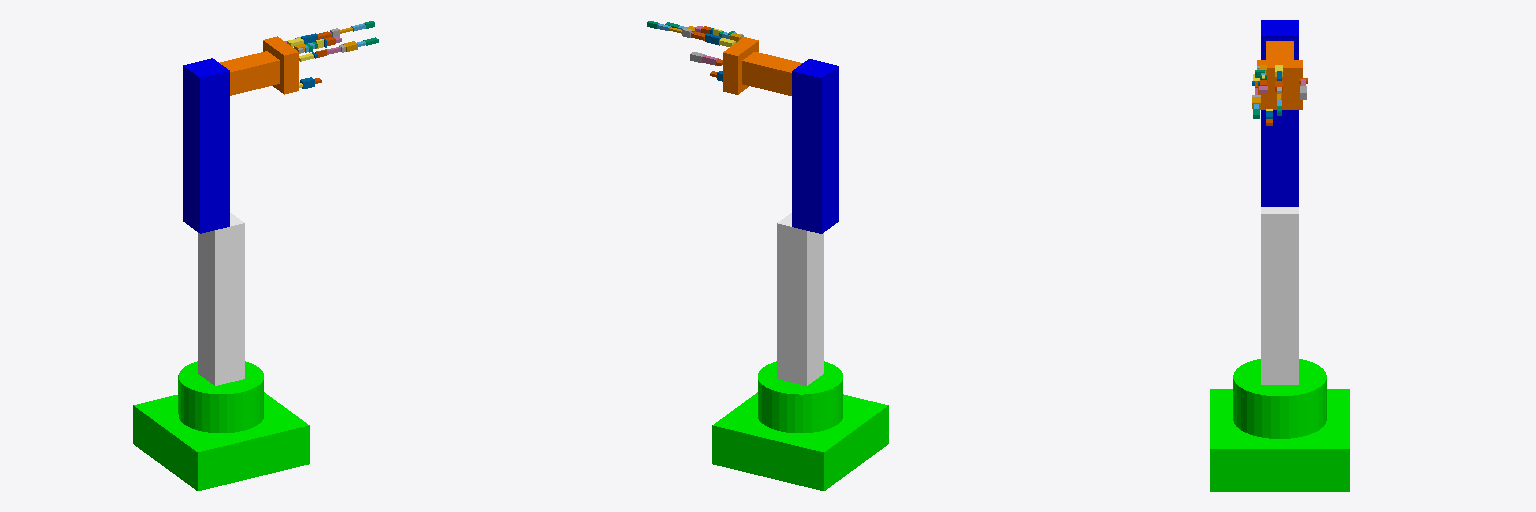
--- What the picture shows (computed from the rendered views, not written in the file) ---
Views: 3 orthographic renders of the robot side by side, from view 1: azimuth 30°, elevation 25°; view 2: azimuth 150°, elevation 25°; view 3: azimuth 270°, elevation 25°.
Robot: robot — 38 links, 37 joints (34 revolute, 1 continuous, 2 fixed); root link base_link; default pose: every joint at zero.
Visible links, largest first — view 1: base_link, arm_link, support_link, wrist_link, palm_link; view 2: base_link, arm_link, support_link, wrist_link, palm_link; view 3: base_link, support_link, arm_link, palm_link, wrist_link.
Link boxes in pixels (<box>): base_link: <box>133,361,309,490</box>; arm_link: <box>183,58,229,233</box>; support_link: <box>198,213,244,385</box>; wrist_link: <box>220,51,279,95</box>; palm_link: <box>263,36,298,94</box>; base_link: <box>712,361,888,490</box>; arm_link: <box>792,59,838,233</box>; support_link: <box>777,213,823,385</box>; wrist_link: <box>742,52,801,95</box>; palm_link: <box>723,37,758,94</box>; base_link: <box>1210,359,1349,491</box>; support_link: <box>1261,207,1298,384</box>; arm_link: <box>1261,20,1298,206</box>; palm_link: <box>1257,60,1302,109</box>; wrist_link: <box>1266,41,1293,59</box>.
Bounding box of the posed robot: 1.4 × 0.75 × 2.55 m (x, y, z).
Geometry: primitives only (box / cylinder / sphere), no mesh files.

The robot description file, URDF, robot "robot":
<?xml version='1.0' encoding='utf-8'?>
<robot name="robot">
  <link name="base_link">
    <visual>
      <origin xyz="0 0 0.125" rpy="0 0 0" />
      <geometry>
        <box size="0.75 0.75 0.25" />
      </geometry>
      <material name="green" />
    </visual>
    <visual>
      <origin xyz="0 0 0.375" rpy="0 0 0" />
      <geometry>
        <cylinder length="0.25" radius="0.25" />
      </geometry>
      <material name="green">
        <color rgba="0 1 0 1" />
      </material>
    </visual>
    <collision>
      <geometry>
        <box size="0.75 0.75 0.5" />
      </geometry>
    </collision>
    <inertial>
      <mass value="0.5" />
      <inertia ixx="0.034" ixy="0.0" ixz="0.0" iyy="0.034" iyz="0.0" izz="0.034" />
    </inertial>
  </link>
  <link name="support_link">
    <visual>
      <origin xyz="0 0 0.5" rpy="0 0 0" />
      <geometry>
        <box size="0.2 0.2 1" />
      </geometry>
      <material name="white">
        <color rgba="1 1 1 1" />
      </material>
    </visual>
    <collision>
      <geometry>
        <box size="0.2 0.2 1" />
      </geometry>
    </collision>
    <inertial>
      <mass value="0.1" />
      <inertia ixx="0.01" ixy="0.0" ixz="0.0" iyy="0.01" iyz="0.0" izz="0.01" />
    </inertial>
  </link>
  <joint name="support_joint" type="continuous">
    <origin xyz="0 0 0.5" rpy="0 0 0" />
    <parent link="base_link" />
    <child link="support_link" />
    <axis xyz="0 0 1" />
  </joint>
  <link name="arm_link">
    <visual>
      <origin xyz="0 0 0.5" rpy="0 0 0" />
      <geometry>
        <box size="0.2 0.2 1" />
      </geometry>
      <material name="blue">
        <color rgba="0 0 1 1" />
      </material>
    </visual>
    <collision>
      <geometry>
        <box size="0.2 0.2 1" />
      </geometry>
    </collision>
    <inertial>
      <mass value="0.1" />
      <inertia ixx="0.01" ixy="0.0" ixz="0.0" iyy="0.01" iyz="0.0" izz="0.01" />
    </inertial>
  </link>
  <joint name="arm_joint" type="revolute">
    <origin xyz="-0.1 0 1" rpy="0 0 0" />
    <parent link="support_link" />
    <child link="arm_link" />
    <axis xyz="0 1 0" />
    <limit lower="-3.14" upper="3.14" effort="1.0" velocity="1.0" />
  </joint>
  <link name="wrist_link">
    <visual>
      <origin xyz="0 0 0.25" rpy="0 0 0" />
      <geometry>
        <box size="0.15 0.15 0.5" />
      </geometry>
      <material name="orange">
        <color rgba="1 0.5 0 1" />
      </material>
    </visual>
    <collision>
      <geometry>
        <box size="0.15 0.15 0.5" />
      </geometry>
    </collision>
    <inertial>
      <mass value="0.1" />
      <inertia ixx="0.01" ixy="0.0" ixz="0.0" iyy="0.01" iyz="0.0" izz="0.01" />
    </inertial>
  </link>
  <joint name="wrist_joint" type="fixed">
    <origin xyz="0 0 0.9" rpy="0 1.571 0" />
    <parent link="arm_link" />
    <child link="wrist_link" />
  </joint>
  <link name="palm_link">
    <visual>
      <origin xyz="0 0 0.05" rpy="0 0 0" />
      <geometry>
        <box size="0.25 0.25 0.1" />
      </geometry>
      <material name="orange" />
    </visual>
    <collision>
      <geometry>
        <box size="0.25 0.25 0.1" />
      </geometry>
    </collision>
    <inertial>
      <mass value="0.1" />
      <inertia ixx="0.01" ixy="0.0" ixz="0.0" iyy="0.01" iyz="0.0" izz="0.01" />
    </inertial>
  </link>
  <joint name="palm_joint" type="fixed">
    <origin xyz="0 0 0.45" rpy="0 0 0" />
    <parent link="wrist_link" />
    <child link="palm_link" />
  </joint>
  <link name="finger_link_0_0">
    <visual>
      <origin xyz="0 0 0.018" rpy="0 0 0" />
      <geometry>
        <box size="0.02 0.045 0.036" />
      </geometry>
    </visual>
    <collision>
      <geometry>
        <box size="0.02 0.045 0.036" />
      </geometry>
    </collision>
    <inertial>
      <mass value="0.01" />
      <inertia ixx="0.0" iyy="0.0" izz="0.0" ixy="0" ixz="0" iyz="0" />
    </inertial>
  </link>
  <joint name="finger_joint_palm_link_to_finger_link_0_0" type="revolute">
    <origin xyz="-0.055 0.125 0.1" rpy="0 0 0" />
    <parent link="palm_link" />
    <child link="finger_link_0_0" />
    <axis xyz="-1.0 0.0 0.0" />
    <limit lower="-3.142" upper="3.142" effort="10" velocity="10" />
  </joint>
  <link name="finger_link_0_1">
    <visual>
      <origin xyz="0 0 0.047" rpy="0 0 0" />
      <geometry>
        <box size="0.038 0.026 0.094" />
      </geometry>
    </visual>
    <collision>
      <geometry>
        <box size="0.038 0.026 0.094" />
      </geometry>
    </collision>
    <inertial>
      <mass value="0.028" />
      <inertia ixx="0.0" iyy="0.0" izz="0.0" ixy="0" ixz="0" iyz="0" />
    </inertial>
  </link>
  <joint name="finger_joint_finger_link_0_0_to_finger_link_0_1" type="revolute">
    <origin xyz="0.0 0.0 0.036" rpy="0 0 0" />
    <parent link="finger_link_0_0" />
    <child link="finger_link_0_1" />
    <axis xyz="1.0 0.0 0.0" />
    <limit lower="-3.142" upper="3.142" effort="10" velocity="10" />
  </joint>
  <link name="finger_link_0_2">
    <visual>
      <origin xyz="0 0 0.038" rpy="0 0 0" />
      <geometry>
        <box size="0.042 0.041 0.076" />
      </geometry>
    </visual>
    <collision>
      <geometry>
        <box size="0.042 0.041 0.076" />
      </geometry>
    </collision>
    <inertial>
      <mass value="0.039" />
      <inertia ixx="0.0" iyy="0.0" izz="0.0" ixy="0" ixz="0" iyz="0" />
    </inertial>
  </link>
  <joint name="finger_joint_finger_link_0_1_to_finger_link_0_2" type="revolute">
    <origin xyz="0.0 0.0 0.094" rpy="0 0 0" />
    <parent link="finger_link_0_1" />
    <child link="finger_link_0_2" />
    <axis xyz="0.0 1.0 0.0" />
    <limit lower="-3.142" upper="3.142" effort="10" velocity="10" />
  </joint>
  <link name="finger_link_1_0">
    <visual>
      <origin xyz="0 0 0.032" rpy="0 0 0" />
      <geometry>
        <box size="0.035 0.038 0.064" />
      </geometry>
    </visual>
    <collision>
      <geometry>
        <box size="0.035 0.038 0.064" />
      </geometry>
    </collision>
    <inertial>
      <mass value="0.026" />
      <inertia ixx="0.0" iyy="0.0" izz="0.0" ixy="0" ixz="0" iyz="0" />
    </inertial>
  </link>
  <joint name="finger_joint_palm_link_to_finger_link_1_0" type="revolute">
    <origin xyz="-0.125 -0.088 0.1" rpy="0 0 0" />
    <parent link="palm_link" />
    <child link="finger_link_1_0" />
    <axis xyz="0.0 -1.0 0.0" />
    <limit lower="-3.142" upper="3.142" effort="10" velocity="10" />
  </joint>
  <link name="finger_link_1_1">
    <visual>
      <origin xyz="0 0 0.0265" rpy="0 0 0" />
      <geometry>
        <box size="0.025 0.031 0.053" />
      </geometry>
    </visual>
    <collision>
      <geometry>
        <box size="0.025 0.031 0.053" />
      </geometry>
    </collision>
    <inertial>
      <mass value="0.012" />
      <inertia ixx="0.0" iyy="0.0" izz="0.0" ixy="0" ixz="0" iyz="0" />
    </inertial>
  </link>
  <joint name="finger_joint_finger_link_1_0_to_finger_link_1_1" type="revolute">
    <origin xyz="0.0 0.0 0.064" rpy="0 0 0" />
    <parent link="finger_link_1_0" />
    <child link="finger_link_1_1" />
    <axis xyz="1.0 0.0 0.0" />
    <limit lower="-3.142" upper="3.142" effort="10" velocity="10" />
  </joint>
  <link name="finger_link_1_2">
    <visual>
      <origin xyz="0 0 0.0095" rpy="0 0 0" />
      <geometry>
        <box size="0.026 0.035 0.019" />
      </geometry>
    </visual>
    <collision>
      <geometry>
        <box size="0.026 0.035 0.019" />
      </geometry>
    </collision>
    <inertial>
      <mass value="0.005" />
      <inertia ixx="0.0" iyy="0.0" izz="0.0" ixy="0" ixz="0" iyz="0" />
    </inertial>
  </link>
  <joint name="finger_joint_finger_link_1_1_to_finger_link_1_2" type="revolute">
    <origin xyz="0.0 0.0 0.053" rpy="0 0 0" />
    <parent link="finger_link_1_1" />
    <child link="finger_link_1_2" />
    <axis xyz="0.0 1.0 0.0" />
    <limit lower="-3.142" upper="3.142" effort="10" velocity="10" />
  </joint>
  <link name="finger_link_1_3">
    <visual>
      <origin xyz="0 0 0.024" rpy="0 0 0" />
      <geometry>
        <box size="0.047 0.016 0.048" />
      </geometry>
    </visual>
    <collision>
      <geometry>
        <box size="0.047 0.016 0.048" />
      </geometry>
    </collision>
    <inertial>
      <mass value="0.011" />
      <inertia ixx="0.0" iyy="0.0" izz="0.0" ixy="0" ixz="0" iyz="0" />
    </inertial>
  </link>
  <joint name="finger_joint_finger_link_1_2_to_finger_link_1_3" type="revolute">
    <origin xyz="0.0 0.0 0.019" rpy="0 0 0" />
    <parent link="finger_link_1_2" />
    <child link="finger_link_1_3" />
    <axis xyz="0.0 1.0 0.0" />
    <limit lower="-3.142" upper="3.142" effort="10" velocity="10" />
  </joint>
  <link name="finger_link_1_4">
    <visual>
      <origin xyz="0 0 0.0055" rpy="0 0 0" />
      <geometry>
        <box size="0.045 0.04 0.011" />
      </geometry>
    </visual>
    <collision>
      <geometry>
        <box size="0.045 0.04 0.011" />
      </geometry>
    </collision>
    <inertial>
      <mass value="0.006" />
      <inertia ixx="0.0" iyy="0.0" izz="0.0" ixy="0" ixz="0" iyz="0" />
    </inertial>
  </link>
  <joint name="finger_joint_finger_link_1_3_to_finger_link_1_4" type="revolute">
    <origin xyz="0.0 0.0 0.048" rpy="0 0 0" />
    <parent link="finger_link_1_3" />
    <child link="finger_link_1_4" />
    <axis xyz="1.0 0.0 0.0" />
    <limit lower="-3.142" upper="3.142" effort="10" velocity="10" />
  </joint>
  <link name="finger_link_1_5">
    <visual>
      <origin xyz="0 0 0.0305" rpy="0 0 0" />
      <geometry>
        <box size="0.034 0.039 0.061" />
      </geometry>
    </visual>
    <collision>
      <geometry>
        <box size="0.034 0.039 0.061" />
      </geometry>
    </collision>
    <inertial>
      <mass value="0.024" />
      <inertia ixx="0.0" iyy="0.0" izz="0.0" ixy="0" ixz="0" iyz="0" />
    </inertial>
  </link>
  <joint name="finger_joint_finger_link_1_4_to_finger_link_1_5" type="revolute">
    <origin xyz="0.0 0.0 0.011" rpy="0 0 0" />
    <parent link="finger_link_1_4" />
    <child link="finger_link_1_5" />
    <axis xyz="1.0 0.0 0.0" />
    <limit lower="-3.142" upper="3.142" effort="10" velocity="10" />
  </joint>
  <link name="finger_link_1_6">
    <visual>
      <origin xyz="0 0 0.0205" rpy="0 0 0" />
      <geometry>
        <box size="0.02 0.043 0.041" />
      </geometry>
    </visual>
    <collision>
      <geometry>
        <box size="0.02 0.043 0.041" />
      </geometry>
    </collision>
    <inertial>
      <mass value="0.011" />
      <inertia ixx="0.0" iyy="0.0" izz="0.0" ixy="0" ixz="0" iyz="0" />
    </inertial>
  </link>
  <joint name="finger_joint_finger_link_1_5_to_finger_link_1_6" type="revolute">
    <origin xyz="0.0 0.0 0.061" rpy="0 0 0" />
    <parent link="finger_link_1_5" />
    <child link="finger_link_1_6" />
    <axis xyz="1.0 0.0 0.0" />
    <limit lower="-3.142" upper="3.142" effort="10" velocity="10" />
  </joint>
  <link name="finger_link_2_0">
    <visual>
      <origin xyz="0 0 0.015" rpy="0 0 0" />
      <geometry>
        <box size="0.026 0.036 0.03" />
      </geometry>
    </visual>
    <collision>
      <geometry>
        <box size="0.026 0.036 0.03" />
      </geometry>
    </collision>
    <inertial>
      <mass value="0.008" />
      <inertia ixx="0.0" iyy="0.0" izz="0.0" ixy="0" ixz="0" iyz="0" />
    </inertial>
  </link>
  <joint name="finger_joint_palm_link_to_finger_link_2_0" type="revolute">
    <origin xyz="-0.125 -0.106 0.1" rpy="0 0 0" />
    <parent link="palm_link" />
    <child link="finger_link_2_0" />
    <axis xyz="0.0 -1.0 0.0" />
    <limit lower="-3.142" upper="3.142" effort="10" velocity="10" />
  </joint>
  <link name="finger_link_2_1">
    <visual>
      <origin xyz="0 0 0.008" rpy="0 0 0" />
      <geometry>
        <box size="0.013 0.024 0.016" />
      </geometry>
    </visual>
    <collision>
      <geometry>
        <box size="0.013 0.024 0.016" />
      </geometry>
    </collision>
    <inertial>
      <mass value="0.001" />
      <inertia ixx="0.0" iyy="0.0" izz="0.0" ixy="0" ixz="0" iyz="0" />
    </inertial>
  </link>
  <joint name="finger_joint_finger_link_2_0_to_finger_link_2_1" type="revolute">
    <origin xyz="0.0 0.0 0.03" rpy="0 0 0" />
    <parent link="finger_link_2_0" />
    <child link="finger_link_2_1" />
    <axis xyz="0.0 1.0 0.0" />
    <limit lower="-3.142" upper="3.142" effort="10" velocity="10" />
  </joint>
  <link name="finger_link_2_2">
    <visual>
      <origin xyz="0 0 0.0095" rpy="0 0 0" />
      <geometry>
        <box size="0.032 0.035 0.019" />
      </geometry>
    </visual>
    <collision>
      <geometry>
        <box size="0.032 0.035 0.019" />
      </geometry>
    </collision>
    <inertial>
      <mass value="0.006" />
      <inertia ixx="0.0" iyy="0.0" izz="0.0" ixy="0" ixz="0" iyz="0" />
    </inertial>
  </link>
  <joint name="finger_joint_finger_link_2_1_to_finger_link_2_2" type="revolute">
    <origin xyz="0.0 0.0 0.016" rpy="0 0 0" />
    <parent link="finger_link_2_1" />
    <child link="finger_link_2_2" />
    <axis xyz="0.0 1.0 0.0" />
    <limit lower="-3.142" upper="3.142" effort="10" velocity="10" />
  </joint>
  <link name="finger_link_2_3">
    <visual>
      <origin xyz="0 0 0.012" rpy="0 0 0" />
      <geometry>
        <box size="0.032 0.05 0.024" />
      </geometry>
    </visual>
    <collision>
      <geometry>
        <box size="0.032 0.05 0.024" />
      </geometry>
    </collision>
    <inertial>
      <mass value="0.012" />
      <inertia ixx="0.0" iyy="0.0" izz="0.0" ixy="0" ixz="0" iyz="0" />
    </inertial>
  </link>
  <joint name="finger_joint_finger_link_2_2_to_finger_link_2_3" type="revolute">
    <origin xyz="0.0 0.0 0.019" rpy="0 0 0" />
    <parent link="finger_link_2_2" />
    <child link="finger_link_2_3" />
    <axis xyz="1.0 0.0 0.0" />
    <limit lower="-3.142" upper="3.142" effort="10" velocity="10" />
  </joint>
  <link name="finger_link_3_0">
    <visual>
      <origin xyz="0 0 0.0445" rpy="0 0 0" />
      <geometry>
        <box size="0.029 0.043 0.089" />
      </geometry>
    </visual>
    <collision>
      <geometry>
        <box size="0.029 0.043 0.089" />
      </geometry>
    </collision>
    <inertial>
      <mass value="0.033" />
      <inertia ixx="0.0" iyy="0.0" izz="0.0" ixy="0" ixz="0" iyz="0" />
    </inertial>
  </link>
  <joint name="finger_joint_palm_link_to_finger_link_3_0" type="revolute">
    <origin xyz="-0.125 -0.004 0.1" rpy="0 0 0" />
    <parent link="palm_link" />
    <child link="finger_link_3_0" />
    <axis xyz="0.0 -1.0 0.0" />
    <limit lower="-3.142" upper="3.142" effort="10" velocity="10" />
  </joint>
  <link name="finger_link_3_1">
    <visual>
      <origin xyz="0 0 0.049" rpy="0 0 0" />
      <geometry>
        <box size="0.045 0.028 0.098" />
      </geometry>
    </visual>
    <collision>
      <geometry>
        <box size="0.045 0.028 0.098" />
      </geometry>
    </collision>
    <inertial>
      <mass value="0.037" />
      <inertia ixx="0.0" iyy="0.0" izz="0.0" ixy="0" ixz="0" iyz="0" />
    </inertial>
  </link>
  <joint name="finger_joint_finger_link_3_0_to_finger_link_3_1" type="revolute">
    <origin xyz="0.0 0.0 0.089" rpy="0 0 0" />
    <parent link="finger_link_3_0" />
    <child link="finger_link_3_1" />
    <axis xyz="1.0 0.0 0.0" />
    <limit lower="-3.142" upper="3.142" effort="10" velocity="10" />
  </joint>
  <link name="finger_link_3_2">
    <visual>
      <origin xyz="0 0 0.0435" rpy="0 0 0" />
      <geometry>
        <box size="0.025 0.04 0.087" />
      </geometry>
    </visual>
    <collision>
      <geometry>
        <box size="0.025 0.04 0.087" />
      </geometry>
    </collision>
    <inertial>
      <mass value="0.026" />
      <inertia ixx="0.0" iyy="0.0" izz="0.0" ixy="0" ixz="0" iyz="0" />
    </inertial>
  </link>
  <joint name="finger_joint_finger_link_3_1_to_finger_link_3_2" type="revolute">
    <origin xyz="0.0 0.0 0.098" rpy="0 0 0" />
    <parent link="finger_link_3_1" />
    <child link="finger_link_3_2" />
    <axis xyz="0.0 1.0 0.0" />
    <limit lower="-3.142" upper="3.142" effort="10" velocity="10" />
  </joint>
  <link name="finger_link_3_3">
    <visual>
      <origin xyz="0 0 0.0065" rpy="0 0 0" />
      <geometry>
        <box size="0.017 0.014 0.013" />
      </geometry>
    </visual>
    <collision>
      <geometry>
        <box size="0.017 0.014 0.013" />
      </geometry>
    </collision>
    <inertial>
      <mass value="0.001" />
      <inertia ixx="0.0" iyy="0.0" izz="0.0" ixy="0" ixz="0" iyz="0" />
    </inertial>
  </link>
  <joint name="finger_joint_finger_link_3_2_to_finger_link_3_3" type="revolute">
    <origin xyz="0.0 0.0 0.087" rpy="0 0 0" />
    <parent link="finger_link_3_2" />
    <child link="finger_link_3_3" />
    <axis xyz="1.0 0.0 0.0" />
    <limit lower="-3.142" upper="3.142" effort="10" velocity="10" />
  </joint>
  <link name="finger_link_3_4">
    <visual>
      <origin xyz="0 0 0.0255" rpy="0 0 0" />
      <geometry>
        <box size="0.041 0.029 0.051" />
      </geometry>
    </visual>
    <collision>
      <geometry>
        <box size="0.041 0.029 0.051" />
      </geometry>
    </collision>
    <inertial>
      <mass value="0.018" />
      <inertia ixx="0.0" iyy="0.0" izz="0.0" ixy="0" ixz="0" iyz="0" />
    </inertial>
  </link>
  <joint name="finger_joint_finger_link_3_3_to_finger_link_3_4" type="revolute">
    <origin xyz="0.0 0.0 0.013" rpy="0 0 0" />
    <parent link="finger_link_3_3" />
    <child link="finger_link_3_4" />
    <axis xyz="1.0 0.0 0.0" />
    <limit lower="-3.142" upper="3.142" effort="10" velocity="10" />
  </joint>
  <link name="finger_link_3_5">
    <visual>
      <origin xyz="0 0 0.0445" rpy="0 0 0" />
      <geometry>
        <box size="0.013 0.023 0.089" />
      </geometry>
    </visual>
    <collision>
      <geometry>
        <box size="0.013 0.023 0.089" />
      </geometry>
    </collision>
    <inertial>
      <mass value="0.008" />
      <inertia ixx="0.0" iyy="0.0" izz="0.0" ixy="0" ixz="0" iyz="0" />
    </inertial>
  </link>
  <joint name="finger_joint_finger_link_3_4_to_finger_link_3_5" type="revolute">
    <origin xyz="0.0 0.0 0.051" rpy="0 0 0" />
    <parent link="finger_link_3_4" />
    <child link="finger_link_3_5" />
    <axis xyz="1.0 0.0 0.0" />
    <limit lower="-3.142" upper="3.142" effort="10" velocity="10" />
  </joint>
  <link name="finger_link_3_6">
    <visual>
      <origin xyz="0 0 0.0405" rpy="0 0 0" />
      <geometry>
        <box size="0.024 0.026 0.081" />
      </geometry>
    </visual>
    <collision>
      <geometry>
        <box size="0.024 0.026 0.081" />
      </geometry>
    </collision>
    <inertial>
      <mass value="0.015" />
      <inertia ixx="0.0" iyy="0.0" izz="0.0" ixy="0" ixz="0" iyz="0" />
    </inertial>
  </link>
  <joint name="finger_joint_finger_link_3_5_to_finger_link_3_6" type="revolute">
    <origin xyz="0.0 0.0 0.089" rpy="0 0 0" />
    <parent link="finger_link_3_5" />
    <child link="finger_link_3_6" />
    <axis xyz="0.0 1.0 0.0" />
    <limit lower="-3.142" upper="3.142" effort="10" velocity="10" />
  </joint>
  <link name="finger_link_3_7">
    <visual>
      <origin xyz="0 0 0.0325" rpy="0 0 0" />
      <geometry>
        <box size="0.03 0.027 0.065" />
      </geometry>
    </visual>
    <collision>
      <geometry>
        <box size="0.03 0.027 0.065" />
      </geometry>
    </collision>
    <inertial>
      <mass value="0.016" />
      <inertia ixx="0.0" iyy="0.0" izz="0.0" ixy="0" ixz="0" iyz="0" />
    </inertial>
  </link>
  <joint name="finger_joint_finger_link_3_6_to_finger_link_3_7" type="revolute">
    <origin xyz="0.0 0.0 0.081" rpy="0 0 0" />
    <parent link="finger_link_3_6" />
    <child link="finger_link_3_7" />
    <axis xyz="0.0 1.0 0.0" />
    <limit lower="-3.142" upper="3.142" effort="10" velocity="10" />
  </joint>
  <link name="finger_link_4_0">
    <visual>
      <origin xyz="0 0 0.046" rpy="0 0 0" />
      <geometry>
        <box size="0.02 0.033 0.092" />
      </geometry>
    </visual>
    <collision>
      <geometry>
        <box size="0.02 0.033 0.092" />
      </geometry>
    </collision>
    <inertial>
      <mass value="0.018" />
      <inertia ixx="0.0" iyy="0.0" izz="0.0" ixy="0" ixz="0" iyz="0" />
    </inertial>
  </link>
  <joint name="finger_joint_palm_link_to_finger_link_4_0" type="revolute">
    <origin xyz="-0.08 -0.125 0.1" rpy="0 0 0" />
    <parent link="palm_link" />
    <child link="finger_link_4_0" />
    <axis xyz="1.0 0.0 0.0" />
    <limit lower="-3.142" upper="3.142" effort="10" velocity="10" />
  </joint>
  <link name="finger_link_4_1">
    <visual>
      <origin xyz="0 0 0.009" rpy="0 0 0" />
      <geometry>
        <box size="0.019 0.048 0.018" />
      </geometry>
    </visual>
    <collision>
      <geometry>
        <box size="0.019 0.048 0.018" />
      </geometry>
    </collision>
    <inertial>
      <mass value="0.005" />
      <inertia ixx="0.0" iyy="0.0" izz="0.0" ixy="0" ixz="0" iyz="0" />
    </inertial>
  </link>
  <joint name="finger_joint_finger_link_4_0_to_finger_link_4_1" type="revolute">
    <origin xyz="0.0 0.0 0.092" rpy="0 0 0" />
    <parent link="finger_link_4_0" />
    <child link="finger_link_4_1" />
    <axis xyz="1.0 0.0 0.0" />
    <limit lower="-3.142" upper="3.142" effort="10" velocity="10" />
  </joint>
  <link name="finger_link_4_2">
    <visual>
      <origin xyz="0 0 0.037" rpy="0 0 0" />
      <geometry>
        <box size="0.038 0.011 0.074" />
      </geometry>
    </visual>
    <collision>
      <geometry>
        <box size="0.038 0.011 0.074" />
      </geometry>
    </collision>
    <inertial>
      <mass value="0.009" />
      <inertia ixx="0.0" iyy="0.0" izz="0.0" ixy="0" ixz="0" iyz="0" />
    </inertial>
  </link>
  <joint name="finger_joint_finger_link_4_1_to_finger_link_4_2" type="revolute">
    <origin xyz="0.0 0.0 0.018" rpy="0 0 0" />
    <parent link="finger_link_4_1" />
    <child link="finger_link_4_2" />
    <axis xyz="1.0 0.0 0.0" />
    <limit lower="-3.142" upper="3.142" effort="10" velocity="10" />
  </joint>
  <link name="finger_link_4_3">
    <visual>
      <origin xyz="0 0 0.0465" rpy="0 0 0" />
      <geometry>
        <box size="0.025 0.019 0.093" />
      </geometry>
    </visual>
    <collision>
      <geometry>
        <box size="0.025 0.019 0.093" />
      </geometry>
    </collision>
    <inertial>
      <mass value="0.013" />
      <inertia ixx="0.0" iyy="0.0" izz="0.0" ixy="0" ixz="0" iyz="0" />
    </inertial>
  </link>
  <joint name="finger_joint_finger_link_4_2_to_finger_link_4_3" type="revolute">
    <origin xyz="0.0 0.0 0.074" rpy="0 0 0" />
    <parent link="finger_link_4_2" />
    <child link="finger_link_4_3" />
    <axis xyz="0.0 1.0 0.0" />
    <limit lower="-3.142" upper="3.142" effort="10" velocity="10" />
  </joint>
  <link name="finger_link_4_4">
    <visual>
      <origin xyz="0 0 0.014" rpy="0 0 0" />
      <geometry>
        <box size="0.033 0.043 0.028" />
      </geometry>
    </visual>
    <collision>
      <geometry>
        <box size="0.033 0.043 0.028" />
      </geometry>
    </collision>
    <inertial>
      <mass value="0.012" />
      <inertia ixx="0.0" iyy="0.0" izz="0.0" ixy="0" ixz="0" iyz="0" />
    </inertial>
  </link>
  <joint name="finger_joint_finger_link_4_3_to_finger_link_4_4" type="revolute">
    <origin xyz="0.0 0.0 0.093" rpy="0 0 0" />
    <parent link="finger_link_4_3" />
    <child link="finger_link_4_4" />
    <axis xyz="1.0 0.0 0.0" />
    <limit lower="-3.142" upper="3.142" effort="10" velocity="10" />
  </joint>
  <link name="finger_link_4_5">
    <visual>
      <origin xyz="0 0 0.038" rpy="0 0 0" />
      <geometry>
        <box size="0.035 0.048 0.076" />
      </geometry>
    </visual>
    <collision>
      <geometry>
        <box size="0.035 0.048 0.076" />
      </geometry>
    </collision>
    <inertial>
      <mass value="0.038" />
      <inertia ixx="0.0" iyy="0.0" izz="0.0" ixy="0" ixz="0" iyz="0" />
    </inertial>
  </link>
  <joint name="finger_joint_finger_link_4_4_to_finger_link_4_5" type="revolute">
    <origin xyz="0.0 0.0 0.028" rpy="0 0 0" />
    <parent link="finger_link_4_4" />
    <child link="finger_link_4_5" />
    <axis xyz="1.0 0.0 0.0" />
    <limit lower="-3.142" upper="3.142" effort="10" velocity="10" />
  </joint>
  <link name="finger_link_4_6">
    <visual>
      <origin xyz="0 0 0.03" rpy="0 0 0" />
      <geometry>
        <box size="0.017 0.029 0.06" />
      </geometry>
    </visual>
    <collision>
      <geometry>
        <box size="0.017 0.029 0.06" />
      </geometry>
    </collision>
    <inertial>
      <mass value="0.009" />
      <inertia ixx="0.0" iyy="0.0" izz="0.0" ixy="0" ixz="0" iyz="0" />
    </inertial>
  </link>
  <joint name="finger_joint_finger_link_4_5_to_finger_link_4_6" type="revolute">
    <origin xyz="0.0 0.0 0.076" rpy="0 0 0" />
    <parent link="finger_link_4_5" />
    <child link="finger_link_4_6" />
    <axis xyz="0.0 1.0 0.0" />
    <limit lower="-3.142" upper="3.142" effort="10" velocity="10" />
  </joint>
  <link name="finger_link_4_7">
    <visual>
      <origin xyz="0 0 0.0415" rpy="0 0 0" />
      <geometry>
        <box size="0.022 0.034 0.083" />
      </geometry>
    </visual>
    <collision>
      <geometry>
        <box size="0.022 0.034 0.083" />
      </geometry>
    </collision>
    <inertial>
      <mass value="0.019" />
      <inertia ixx="0.0" iyy="0.0" izz="0.0" ixy="0" ixz="0" iyz="0" />
    </inertial>
  </link>
  <joint name="finger_joint_finger_link_4_6_to_finger_link_4_7" type="revolute">
    <origin xyz="0.0 0.0 0.06" rpy="0 0 0" />
    <parent link="finger_link_4_6" />
    <child link="finger_link_4_7" />
    <axis xyz="0.0 1.0 0.0" />
    <limit lower="-3.142" upper="3.142" effort="10" velocity="10" />
  </joint>
  <link name="finger_link_5_0">
    <visual>
      <origin xyz="0 0 0.028" rpy="0 0 0" />
      <geometry>
        <box size="0.015 0.04 0.056" />
      </geometry>
    </visual>
    <collision>
      <geometry>
        <box size="0.015 0.04 0.056" />
      </geometry>
    </collision>
    <inertial>
      <mass value="0.01" />
      <inertia ixx="0.0" iyy="0.0" izz="0.0" ixy="0" ixz="0" iyz="0" />
    </inertial>
  </link>
  <joint name="finger_joint_palm_link_to_finger_link_5_0" type="revolute">
    <origin xyz="0.125 -0.056 0.1" rpy="0 0 0" />
    <parent link="palm_link" />
    <child link="finger_link_5_0" />
    <axis xyz="0.0 1.0 0.0" />
    <limit lower="-3.142" upper="3.142" effort="10" velocity="10" />
  </joint>
  <link name="finger_link_5_1">
    <visual>
      <origin xyz="0 0 0.0385" rpy="0 0 0" />
      <geometry>
        <box size="0.047 0.038 0.077" />
      </geometry>
    </visual>
    <collision>
      <geometry>
        <box size="0.047 0.038 0.077" />
      </geometry>
    </collision>
    <inertial>
      <mass value="0.041" />
      <inertia ixx="0.0" iyy="0.0" izz="0.0" ixy="0" ixz="0" iyz="0" />
    </inertial>
  </link>
  <joint name="finger_joint_finger_link_5_0_to_finger_link_5_1" type="revolute">
    <origin xyz="0.0 0.0 0.056" rpy="0 0 0" />
    <parent link="finger_link_5_0" />
    <child link="finger_link_5_1" />
    <axis xyz="0.0 1.0 0.0" />
    <limit lower="-3.142" upper="3.142" effort="10" velocity="10" />
  </joint>
  <link name="finger_link_5_2">
    <visual>
      <origin xyz="0 0 0.024" rpy="0 0 0" />
      <geometry>
        <box size="0.017 0.036 0.048" />
      </geometry>
    </visual>
    <collision>
      <geometry>
        <box size="0.017 0.036 0.048" />
      </geometry>
    </collision>
    <inertial>
      <mass value="0.009" />
      <inertia ixx="0.0" iyy="0.0" izz="0.0" ixy="0" ixz="0" iyz="0" />
    </inertial>
  </link>
  <joint name="finger_joint_finger_link_5_1_to_finger_link_5_2" type="revolute">
    <origin xyz="0.0 0.0 0.077" rpy="0 0 0" />
    <parent link="finger_link_5_1" />
    <child link="finger_link_5_2" />
    <axis xyz="1.0 0.0 0.0" />
    <limit lower="-3.142" upper="3.142" effort="10" velocity="10" />
  </joint>
</robot>
